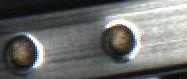joints: (1, 31, 46, 75), (98, 19, 140, 63)
